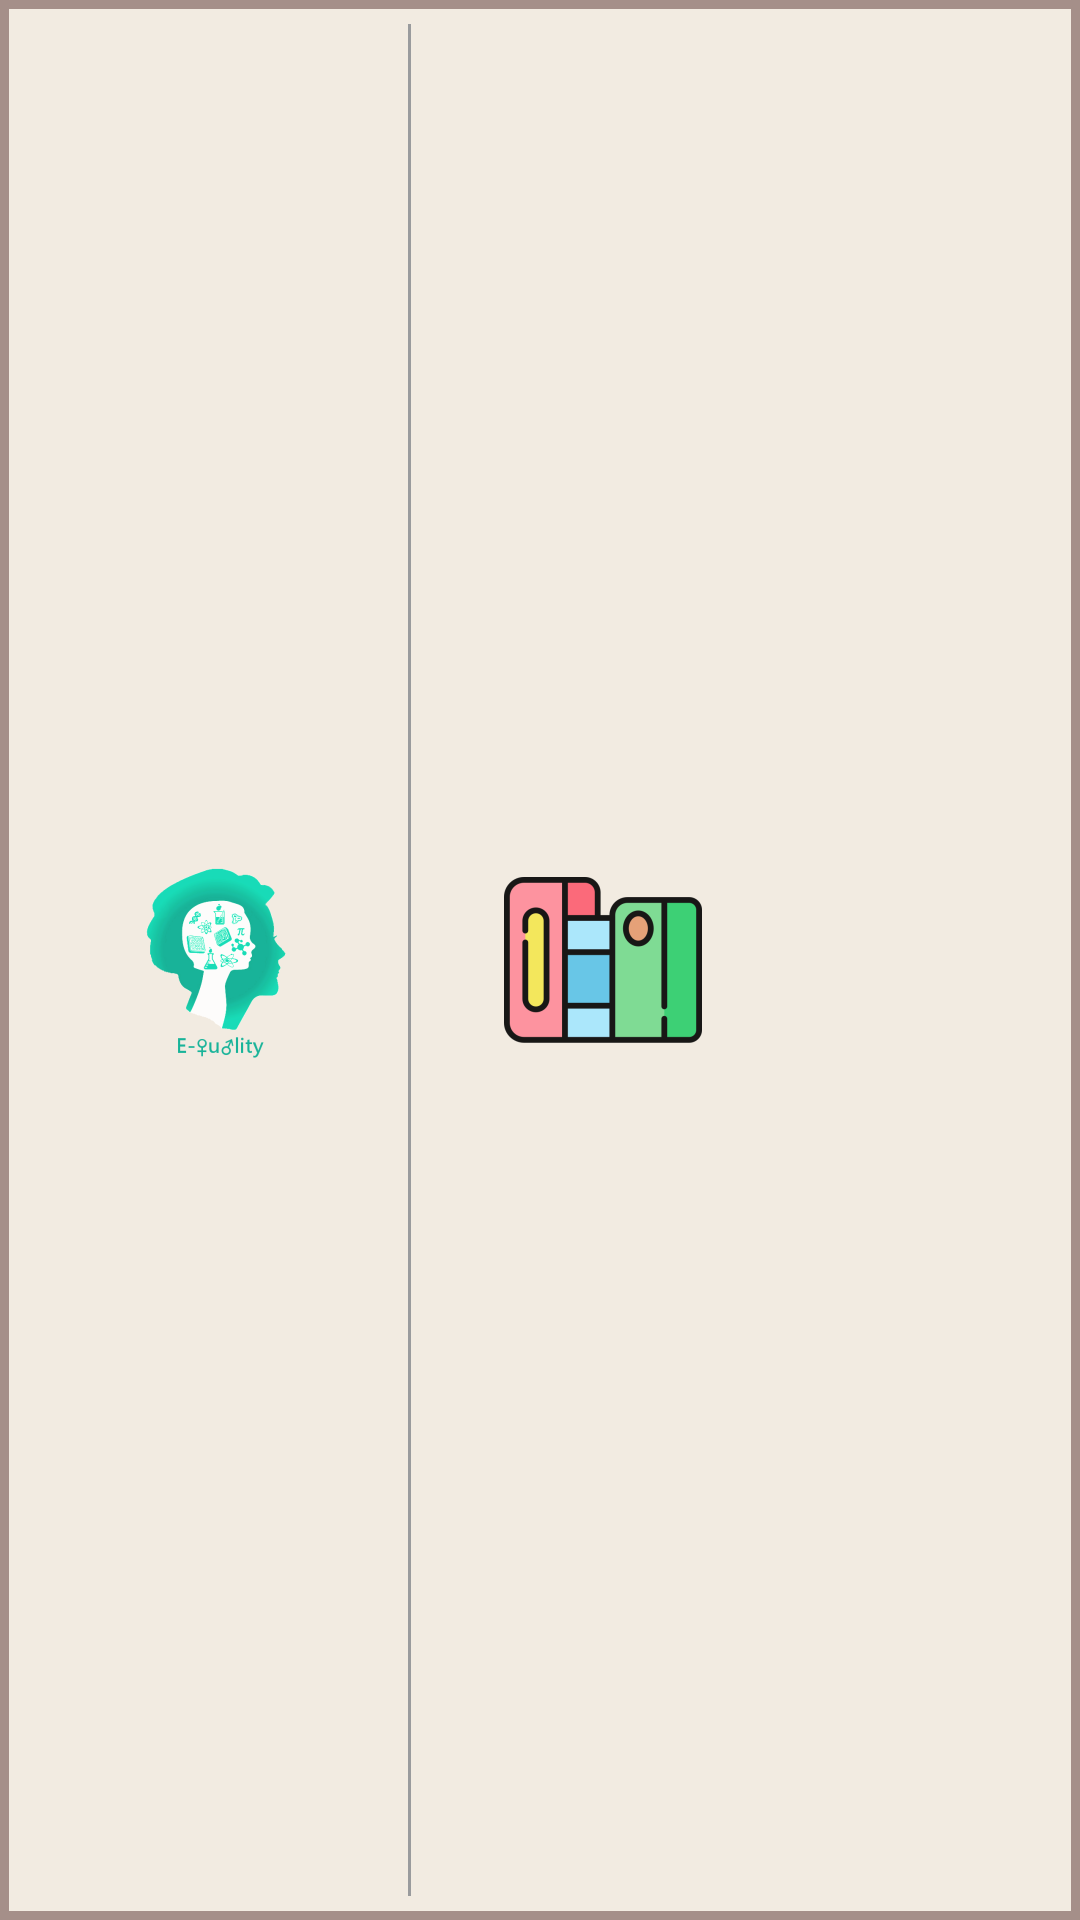

Point at icon controls on the screen. Image size 1080x1920, points as point (x, y).
study: point (603, 960)
